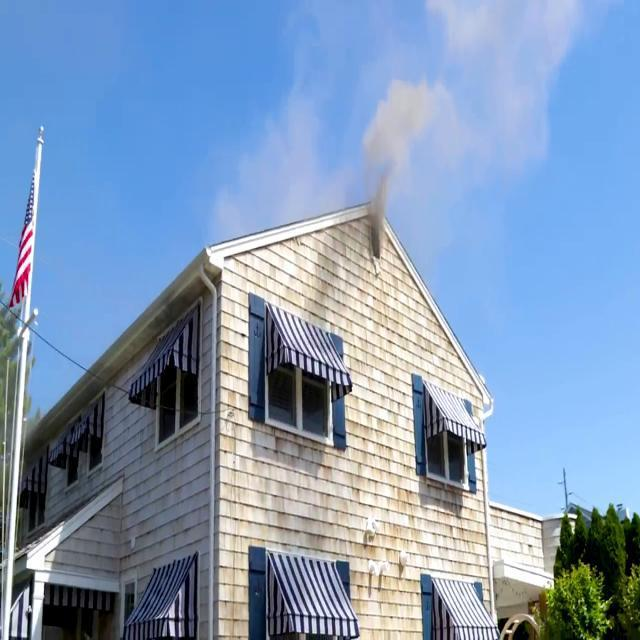Smoke: (363, 58, 437, 239)
